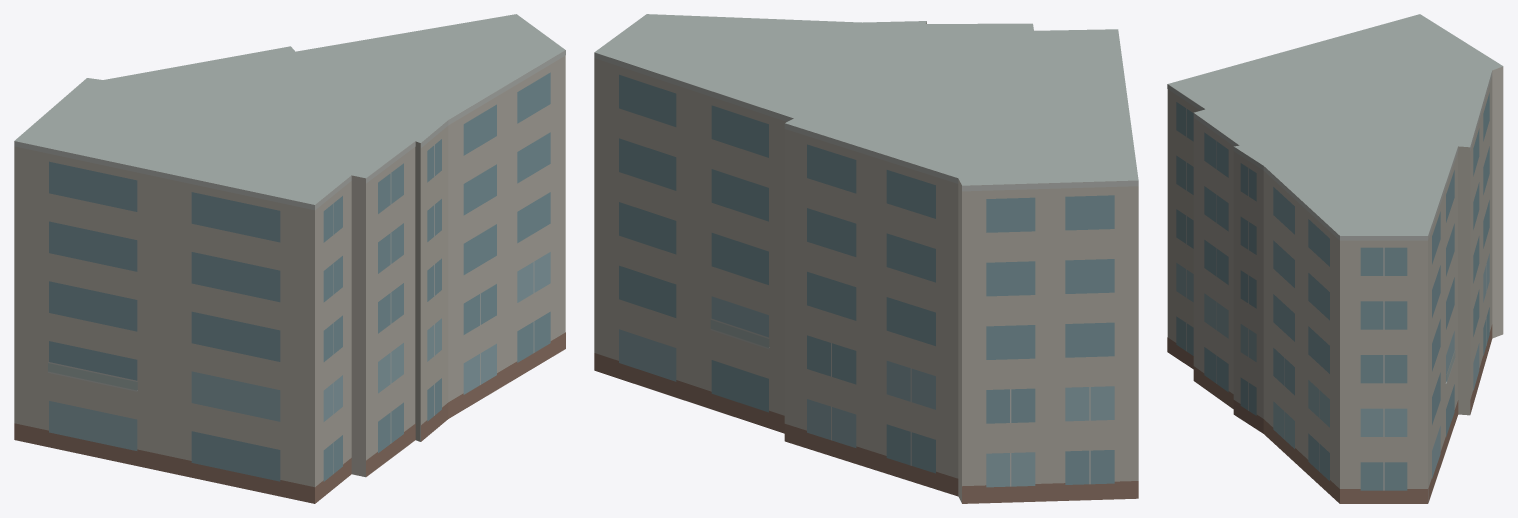
Rendered from survey-upis-32490642.glb.
3 views of the same model, side by side, from view 1: azimuth 30°, elevation 25°; view 2: azimuth 150°, elevation 25°; view 3: azimuth 270°, elevation 25° (orthographic). The views are drawn at different scales.
Visible parts, largest first — view 1: survey-upis-32490642.tmp; view 2: survey-upis-32490642.tmp; view 3: survey-upis-32490642.tmp.
Part boxes in pixels (<box>): survey-upis-32490642.tmp: <box>14,14,565,503</box>; survey-upis-32490642.tmp: <box>594,14,1138,503</box>; survey-upis-32490642.tmp: <box>1167,14,1503,503</box>.
Bounding box in the file's own units: 24.15 × 13.6 × 15.45.
